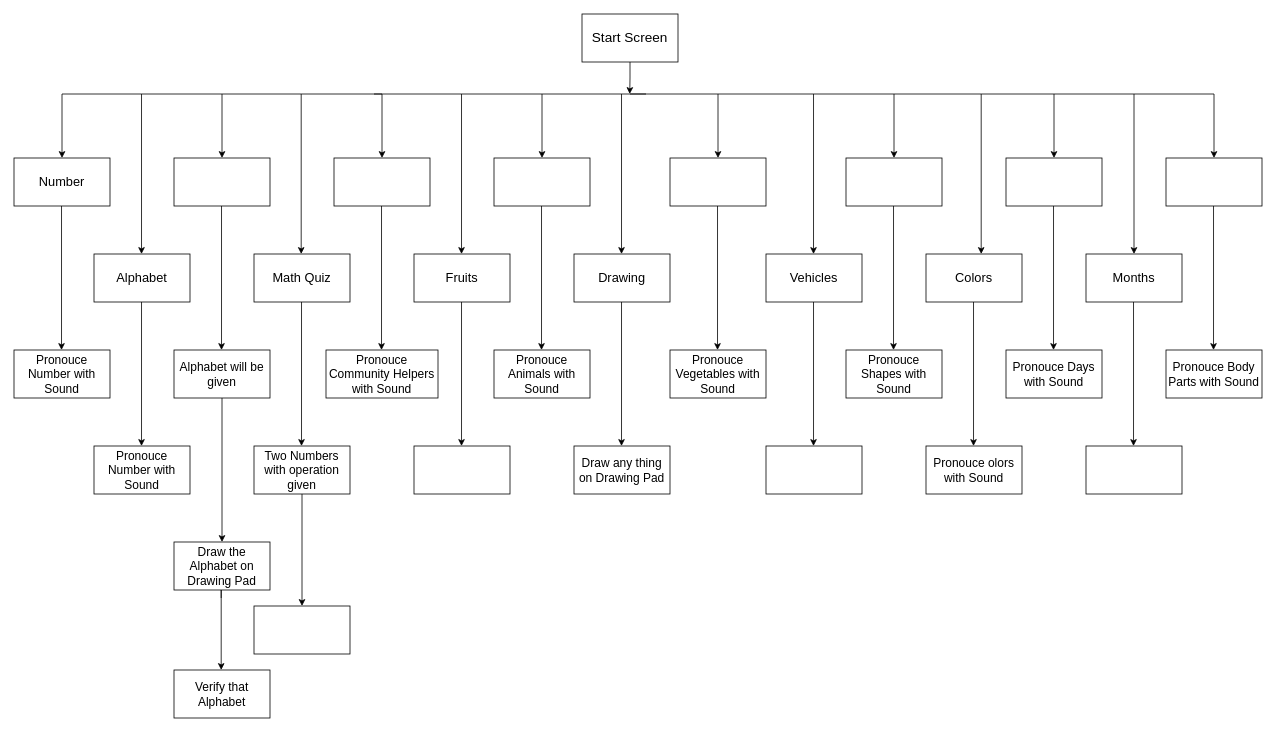
The diagram is 1276 pixels wide and 732 high, and some of its shapes have lost their labels. Each missing label, with the centre of its shape:
Alphabet Training: (x=221, y=181)
Animals: (x=541, y=181)
Body Parts: (x=1213, y=181)
Choose Correct option for given operation: (x=301, y=629)
Community Helpers: (x=381, y=181)
Days: (x=1053, y=181)
Pronouce Fruits with Sound: (x=461, y=469)
Pronouce Months with Sound: (x=1133, y=469)
Pronouce Vehicles with Sound: (x=813, y=469)
Shapes: (x=893, y=181)
Vegetables: (x=717, y=181)
